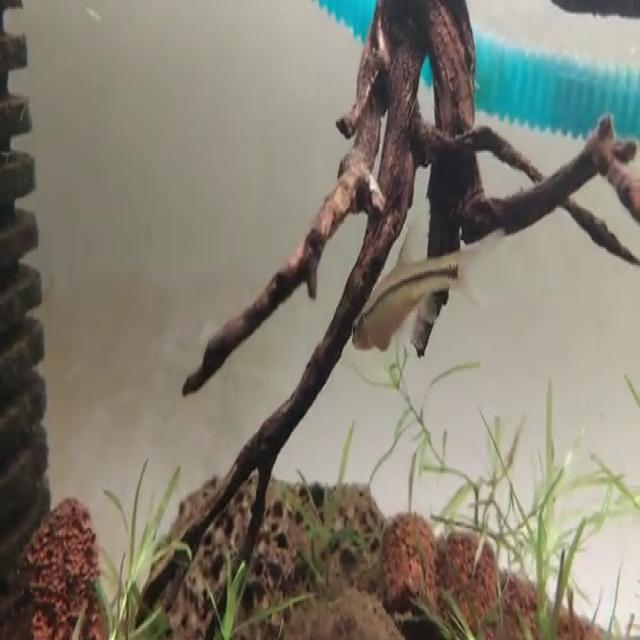Cakil Baligi: (347, 222, 475, 360)
